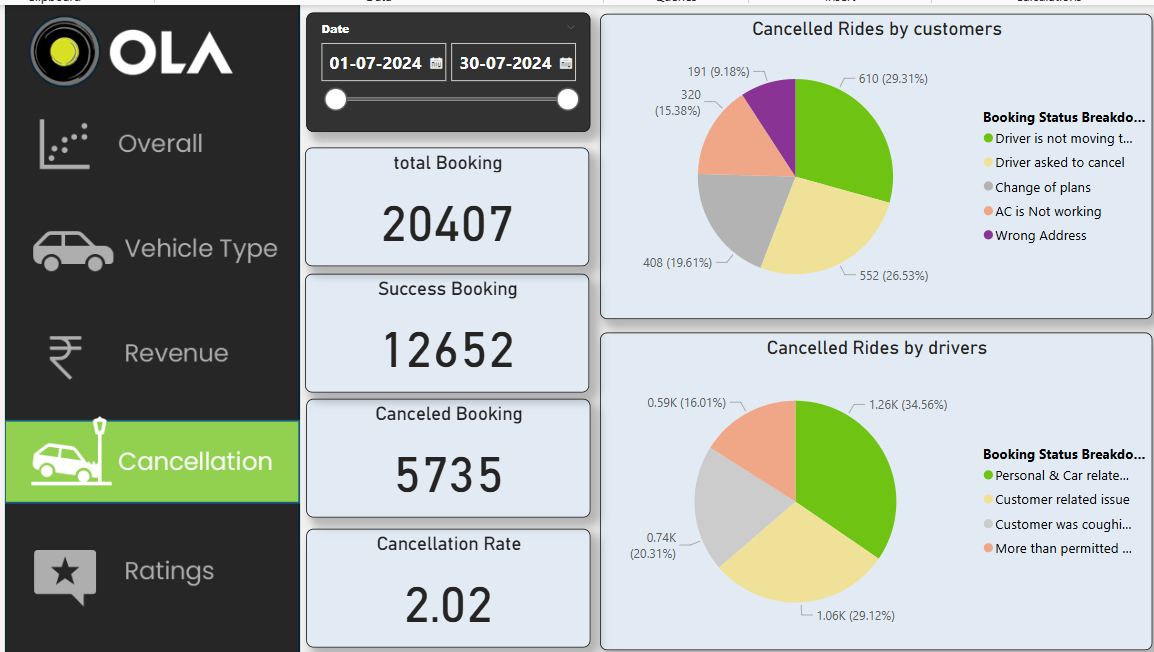

What the dashboard file says about the page in this screenshot:
{"tool":"powerbi","page":{"name":"cancellation","canvas":[1280,720],"ordinal":3},"visuals":[{"type":"actionButton","box":[0,204.3,319.4,98.3],"z":0},{"type":"actionButton","box":[0,107.2,319.4,98.3],"z":1000},{"type":"actionButton","box":[0,333.9,319.4,98.3],"z":2000},{"type":"actionButton","box":[0,575.1,319.4,98.3],"z":3000},{"type":"pieChart","title":"Cancelled Rides by customers","fields":{"Y":["CountNonNull(July.Canceled_Rides_by_Customer)"],"Category":["July.Canceled_Rides_by_Customer"]},"box":[653.2,9.6,606.5,334.8],"z":3001},{"type":"pieChart","title":"Cancelled Rides by drivers","fields":{"Category":["July.Canceled_Rides_by_Driver"],"Y":["CountNonNull(July.Canceled_Rides_by_Driver)"]},"box":[653.2,359.5,606.5,348.5],"z":3002},{"type":"slicer","fields":{"Values":["July.Date"]},"box":[331.2,8.9,311.9,131.6],"z":3003},{"type":"card","title":"total Booking","fields":{"Values":["CountNonNull(July.Booking_ID)"]},"box":[329.7,156.7,311.9,130.1],"z":3004},{"type":"card","title":" Success Booking","fields":{"Values":["CountNonNull(July.Booking_ID)"]},"box":[329.7,295.7,311.9,130.1],"z":3005},{"type":"card","title":" Canceled Booking","fields":{"Values":["CountNonNull(July.Booking_ID)"]},"box":[331.2,431.7,311.9,130.1],"z":3006},{"type":"card","title":" Cancellation Rate","fields":{"Values":["July.CanceledPercentage"]},"box":[331.2,575.1,311.9,130.1],"z":3007}]}

Visuals, with their boxes in screenshot pixels (x1, y1, x2, y2), scaled from the page's 1280x720 canvas onto the 1154x652 screenshot:
actionButton: select_region(0, 185, 288, 274)
actionButton: select_region(0, 97, 288, 186)
actionButton: select_region(0, 302, 288, 391)
actionButton: select_region(0, 521, 288, 610)
"Cancelled Rides by customers" pieChart: select_region(589, 9, 1136, 312)
"Cancelled Rides by drivers" pieChart: select_region(589, 326, 1136, 641)
slicer - July.Date: select_region(299, 8, 580, 127)
"total Booking" card: select_region(297, 142, 578, 260)
" Success Booking" card: select_region(297, 268, 578, 386)
" Canceled Booking" card: select_region(299, 391, 580, 509)
" Cancellation Rate" card: select_region(299, 521, 580, 639)
